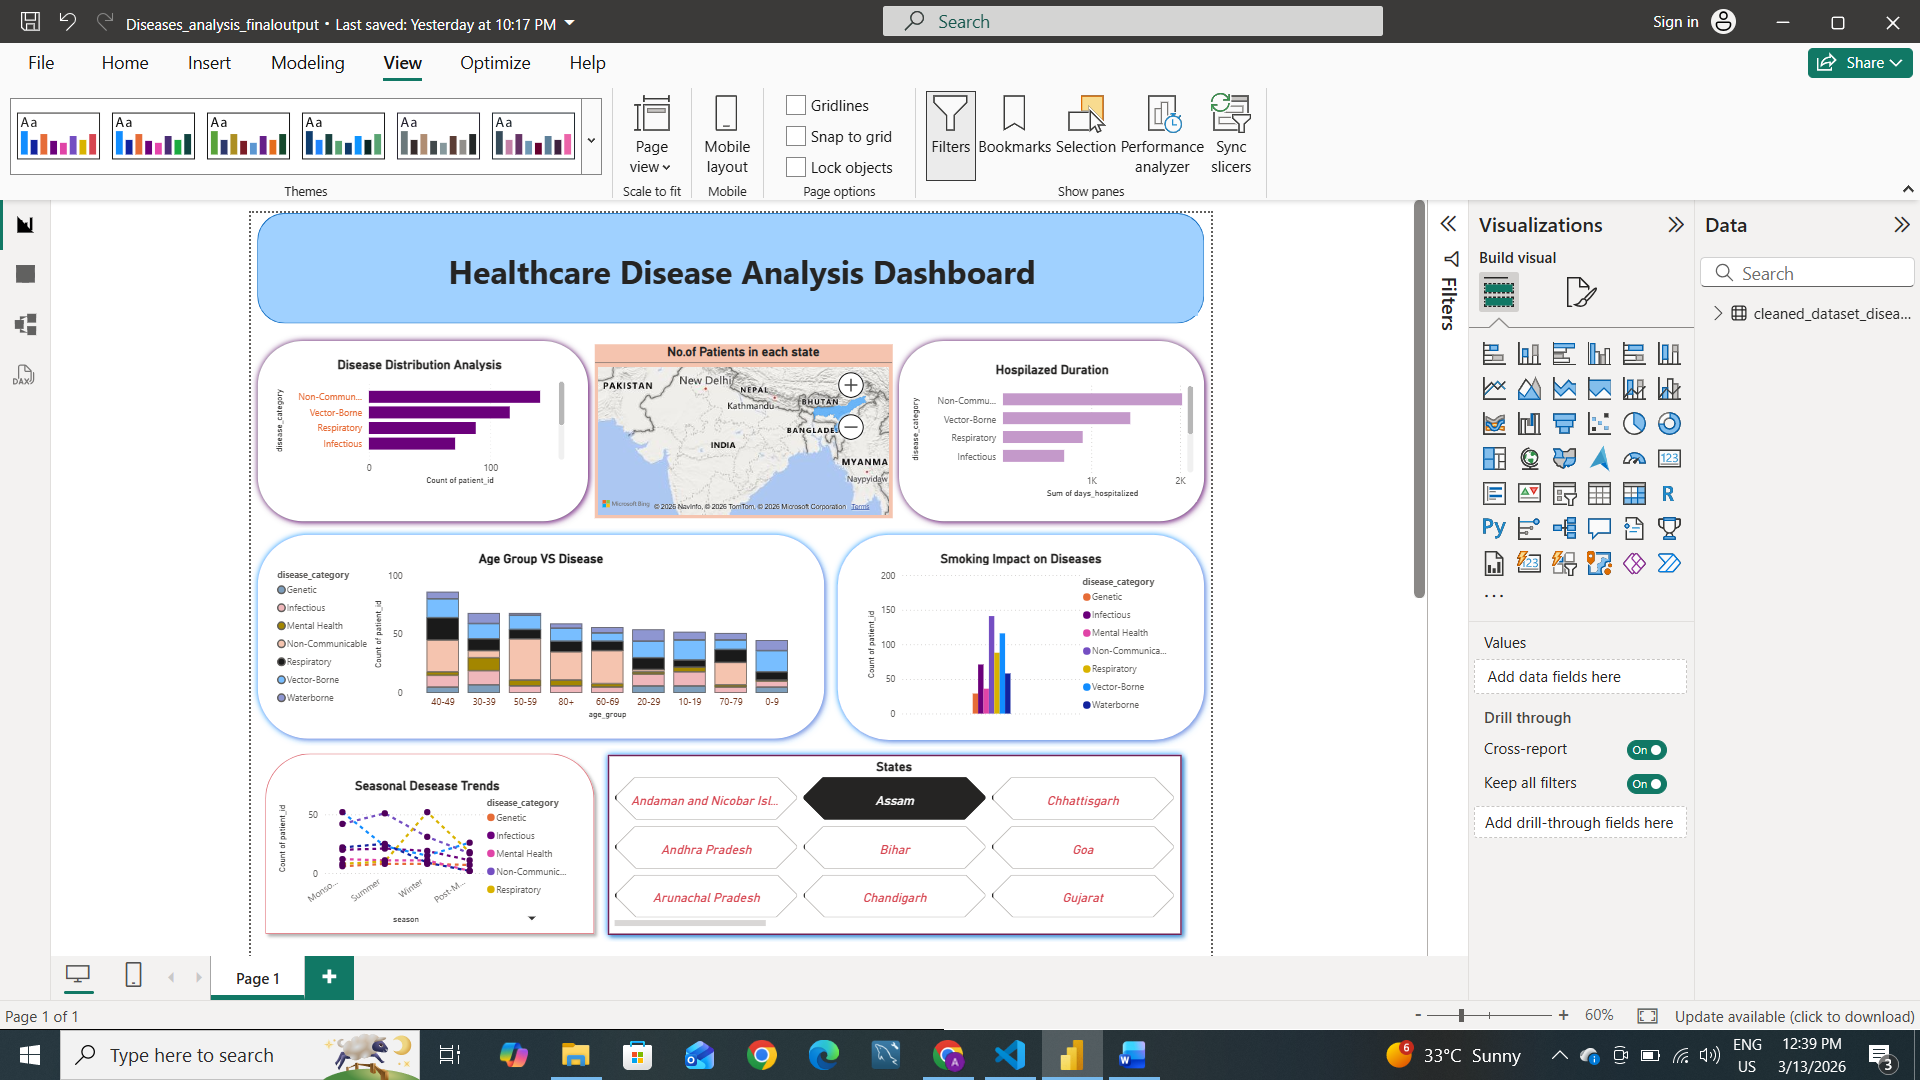

This screenshot's page, from the dashboard's own definition file:
{"tool":"powerbi","page":{"name":"Page 1","canvas":[1280,1896],"ordinal":0},"visuals":[{"type":"shape","box":[0,420,773.3,290],"z":0},{"type":"filledMap","title":"No.of Patients in each state","fields":{"Category":["cleaned_dataset_diseases.state"],"Series":["cleaned_dataset_diseases.patient_id"]},"box":[458.3,175,396.7,231.7],"z":1000},{"type":"columnChart","title":"Age Group VS Disease","fields":{"Category":["cleaned_dataset_diseases.age_group"],"Series":["cleaned_dataset_diseases.disease_category"],"Y":["CountNonNull(cleaned_dataset_diseases.patient_id)"]},"box":[30,450,713.3,230],"z":2000},{"type":"shape","box":[773.3,420,506.7,291.7],"z":3000},{"type":"clusteredColumnChart","title":"Smoking Impact on Diseases","fields":{"Y":["CountNonNull(cleaned_dataset_diseases.patient_id)"],"Series":["cleaned_dataset_diseases.disease_category"]},"box":[816.7,450,420,231.7],"z":4000},{"type":"shape","box":[0,161.7,458.3,258.3],"z":5000},{"type":"barChart","title":"Disease Distribution Analysis","fields":{"Y":["CountNonNull(cleaned_dataset_diseases.patient_id)"],"Category":["cleaned_dataset_diseases.disease_category"]},"box":[30,186.7,391.7,186.7],"z":6000},{"type":"shape","box":[855,161.7,425,258.3],"z":7000},{"type":"clusteredBarChart","title":"Hospilazed Duration","fields":{"Category":["cleaned_dataset_diseases.disease_category"],"Y":["Sum(cleaned_dataset_diseases.days_hospitalized)"]},"box":[875,198.3,386.7,186.7],"z":8000},{"type":"shape","box":[10,711.7,456.7,258.3],"z":9000},{"type":"lineChart","title":"Seasonal Desease Trends","fields":{"Category":["cleaned_dataset_diseases.season"],"Y":["CountNonNull(cleaned_dataset_diseases.patient_id)"],"Series":["cleaned_dataset_diseases.disease_category"]},"box":[31.7,753.3,406.7,200],"z":10000},{"type":"shape","box":[466.7,713.3,783.3,258.3],"z":11000},{"type":"advancedSlicerVisual","title":"States ","fields":{"Values":["cleaned_dataset_diseases.state"]},"box":[480,728.3,755,230],"z":12000},{"type":"shape","box":[8.8,0,1262.5,147.5],"z":13000},{"type":"textbox","box":[46.2,1058.8,458.8,87.5],"z":14000},{"type":"textbox","box":[46,1243,459,150],"z":14001},{"type":"textbox","title":"Healthcare Disease Analysis Dashboard","box":[46.2,47.5,1216.2,88.8],"z":14002}]}

Visuals, with their boxes on the page's 1280x1896 design canvas (x1, y1, x2, y2). These are canvas units, not pixel positions in the 1920x1080 screenshot, which may show the page scaled, cropped or inside an application window:
shape: (0,420,773,710)
"No.of Patients in each state" filledMap: (458,175,855,407)
"Age Group VS Disease" columnChart: (30,450,743,680)
shape: (773,420,1280,712)
"Smoking Impact on Diseases" clusteredColumnChart: (817,450,1237,682)
shape: (0,162,458,420)
"Disease Distribution Analysis" barChart: (30,187,422,373)
shape: (855,162,1280,420)
"Hospilazed Duration" clusteredBarChart: (875,198,1262,385)
shape: (10,712,467,970)
"Seasonal Desease Trends" lineChart: (32,753,438,953)
shape: (467,713,1250,972)
"States " advancedSlicerVisual: (480,728,1235,958)
shape: (9,0,1271,148)
textbox: (46,1059,505,1146)
textbox: (46,1243,505,1393)
"Healthcare Disease Analysis Dashboard" textbox: (46,48,1262,136)
